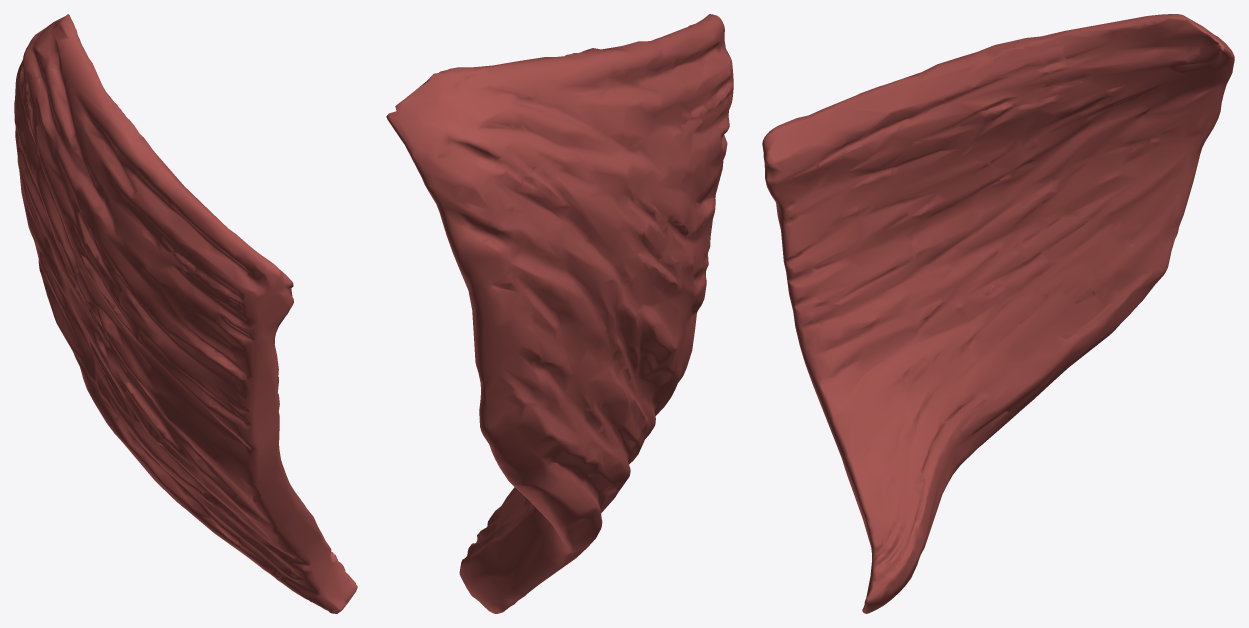
File: FMA46835.glb
3 views of the same model, side by side, from view 1: azimuth 30°, elevation 25°; view 2: azimuth 150°, elevation 25°; view 3: azimuth 270°, elevation 25° (orthographic). The views are drawn at different scales.
Parts seen in each view (by area): view 1: FMA46835; view 2: FMA46835; view 3: FMA46835.
Boxes of the visible parts, left/top/right/bottom form: FMA46835: left=14, top=14, right=357, bottom=613; FMA46835: left=386, top=14, right=733, bottom=613; FMA46835: left=762, top=14, right=1234, bottom=613.
Size of the model in its own units: 0.0145 by 0.0352 by 0.028.
